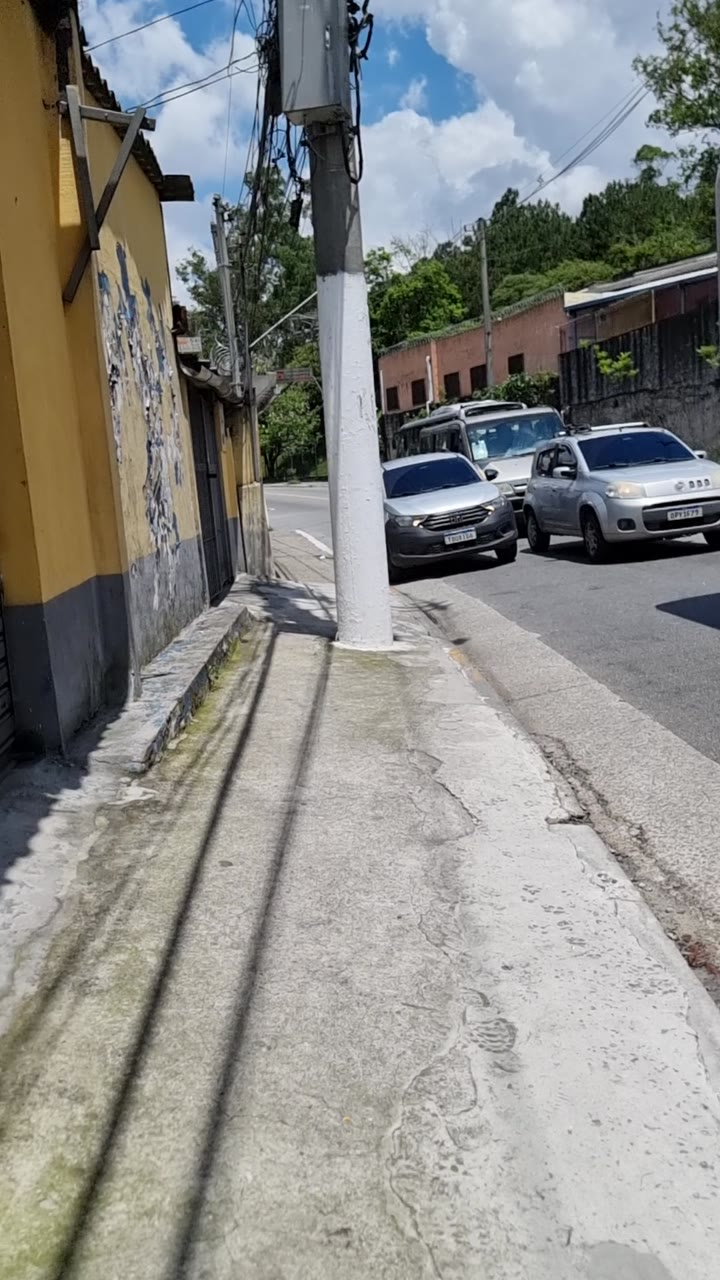obstaculo: (302, 0, 396, 653)
